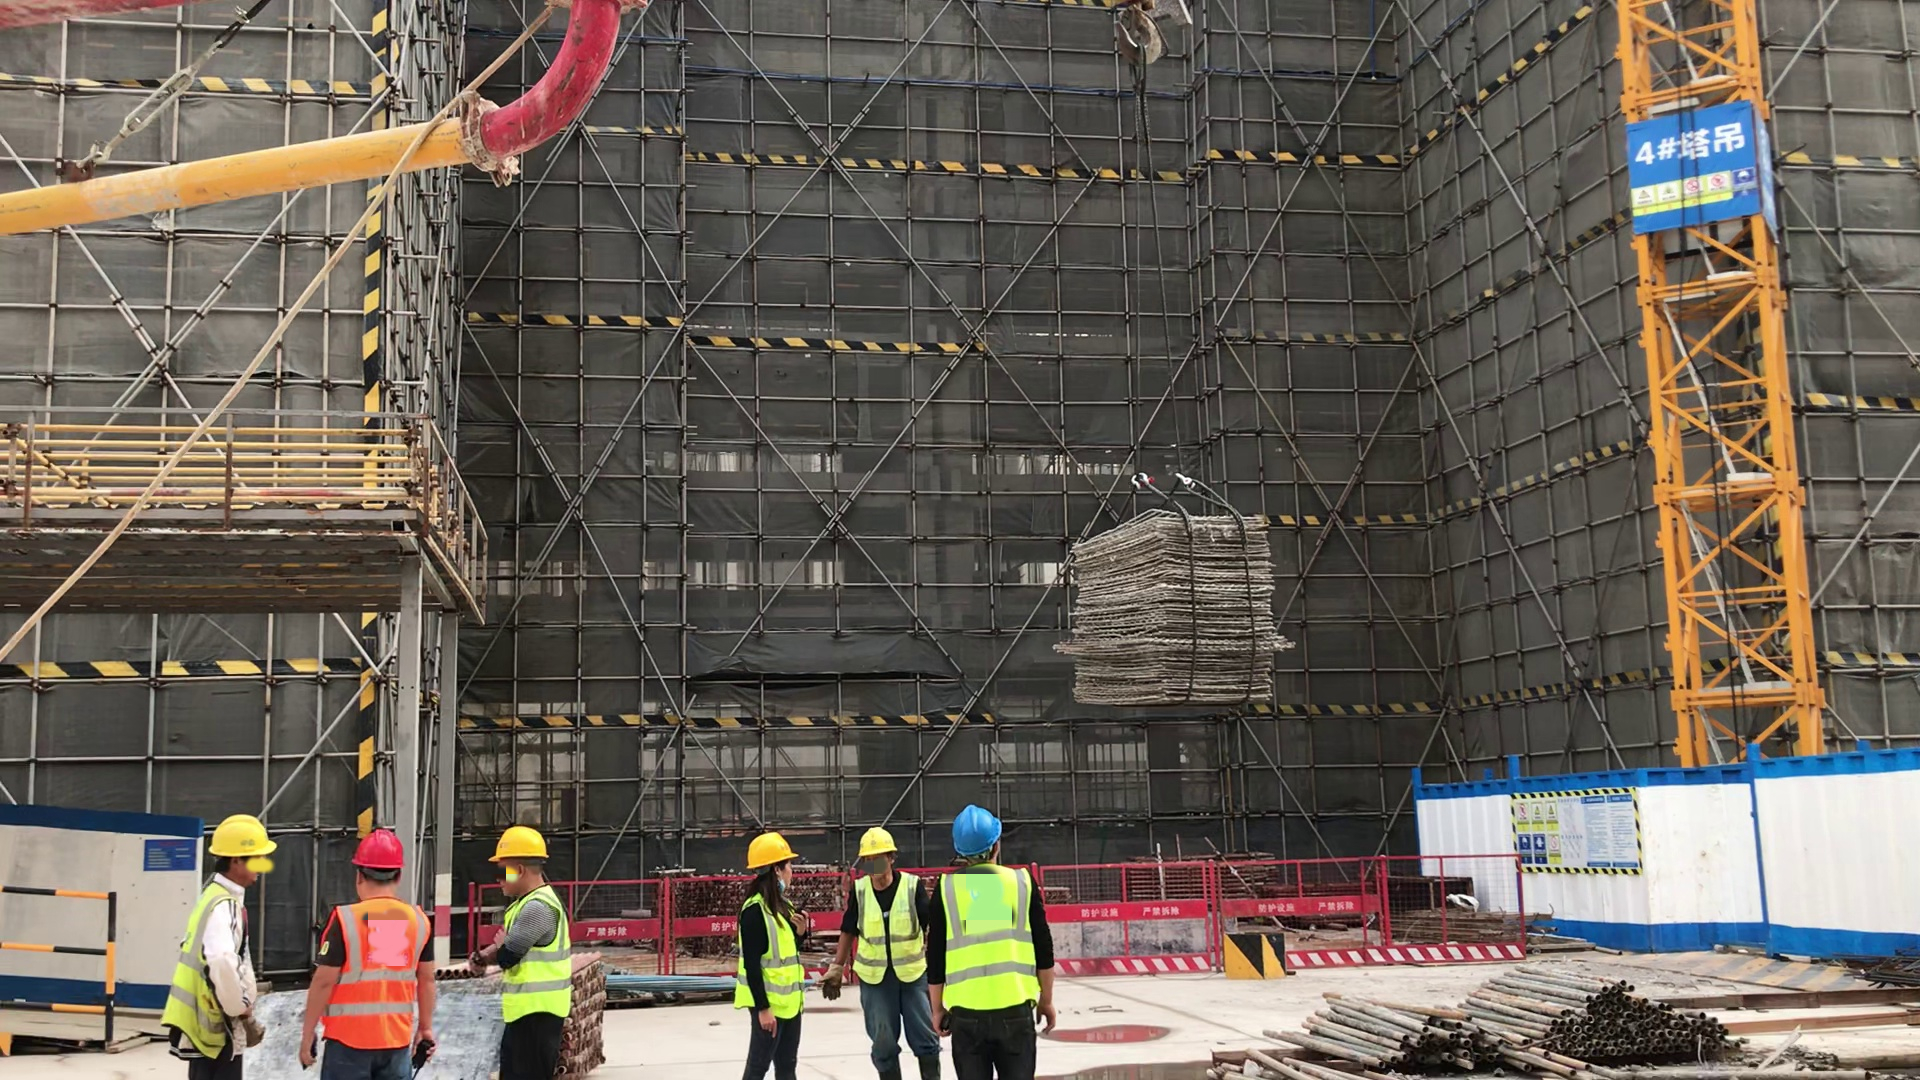fence: (1295, 849, 1528, 968), (1059, 852, 1225, 978), (6, 874, 132, 1042), (593, 871, 719, 974)
helmet: (206, 812, 278, 865), (948, 804, 1007, 858), (349, 831, 412, 876), (484, 827, 554, 867), (745, 834, 801, 872), (855, 827, 901, 858)
hook: (1096, 1, 1206, 82)
person: (928, 802, 1058, 1080), (300, 828, 442, 1080), (159, 816, 281, 1080), (821, 822, 943, 1080), (474, 828, 578, 1080), (736, 832, 810, 1080)
scaffold: (1502, 960, 1739, 1069), (1254, 987, 1499, 1078)
slogan: (1625, 120, 1769, 226), (1511, 791, 1637, 869)
vest: (936, 857, 1045, 1017), (317, 895, 422, 1049), (163, 885, 247, 1061), (493, 882, 575, 1027), (736, 897, 811, 1026), (851, 871, 932, 987)
